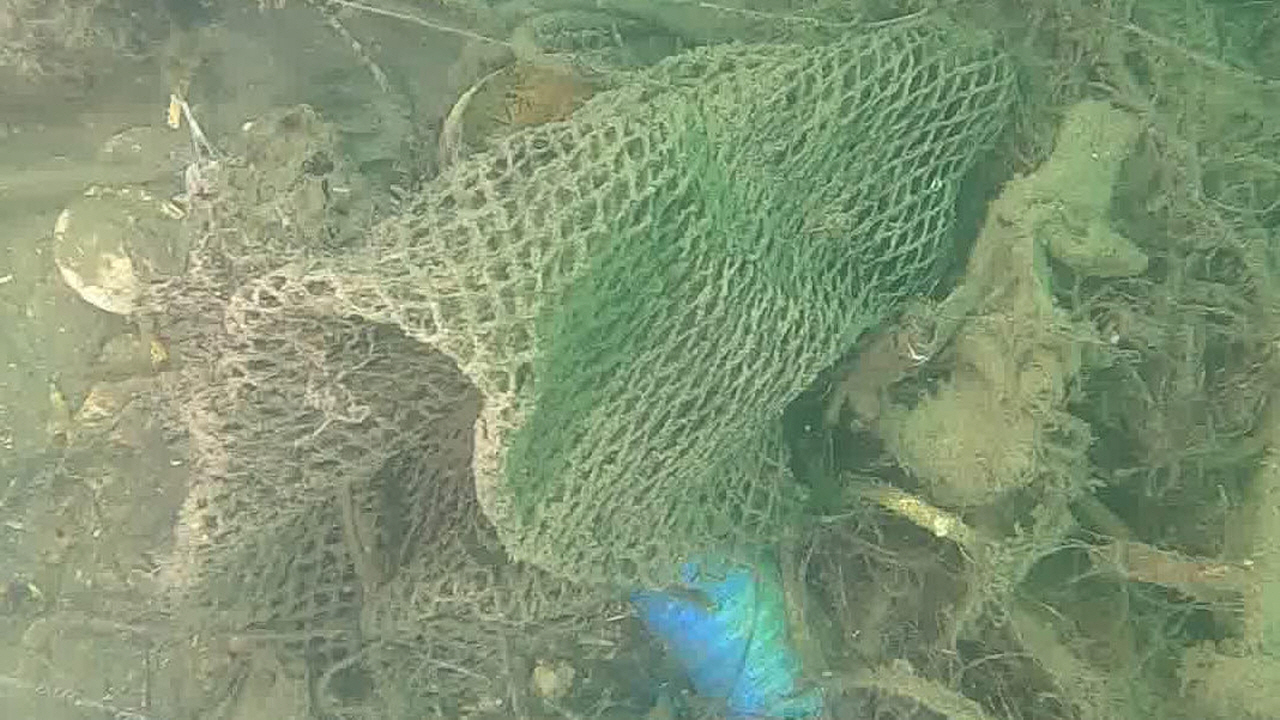fish net: (177, 23, 1013, 665)
